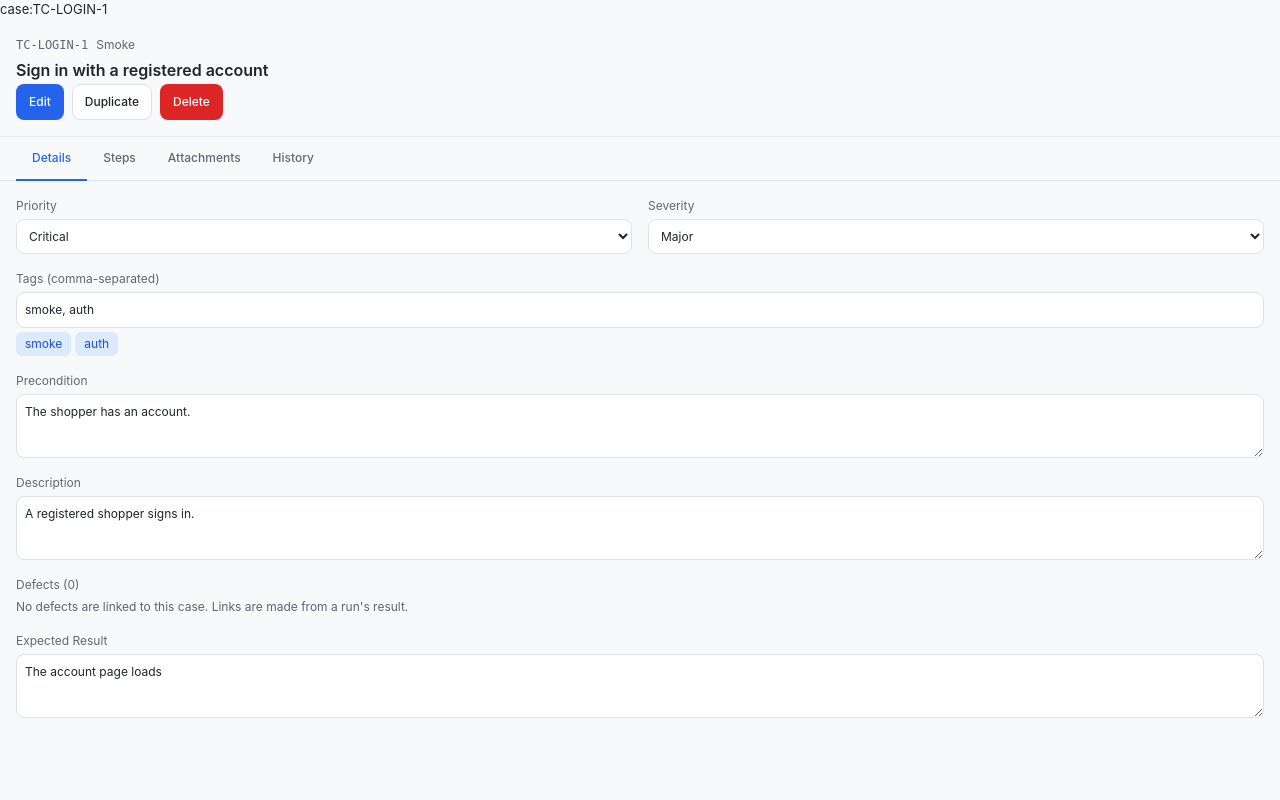
Test: CaseDetail › keeps the dialog open and shows the envelope when deletion is rejected
The width and height of the screenshot is (1280, 800).
Expected: the heading "Sign in with a registered account" is shown, [16,60,268,80]
Click the button "Delete": [191, 102] box [160,84,223,120]
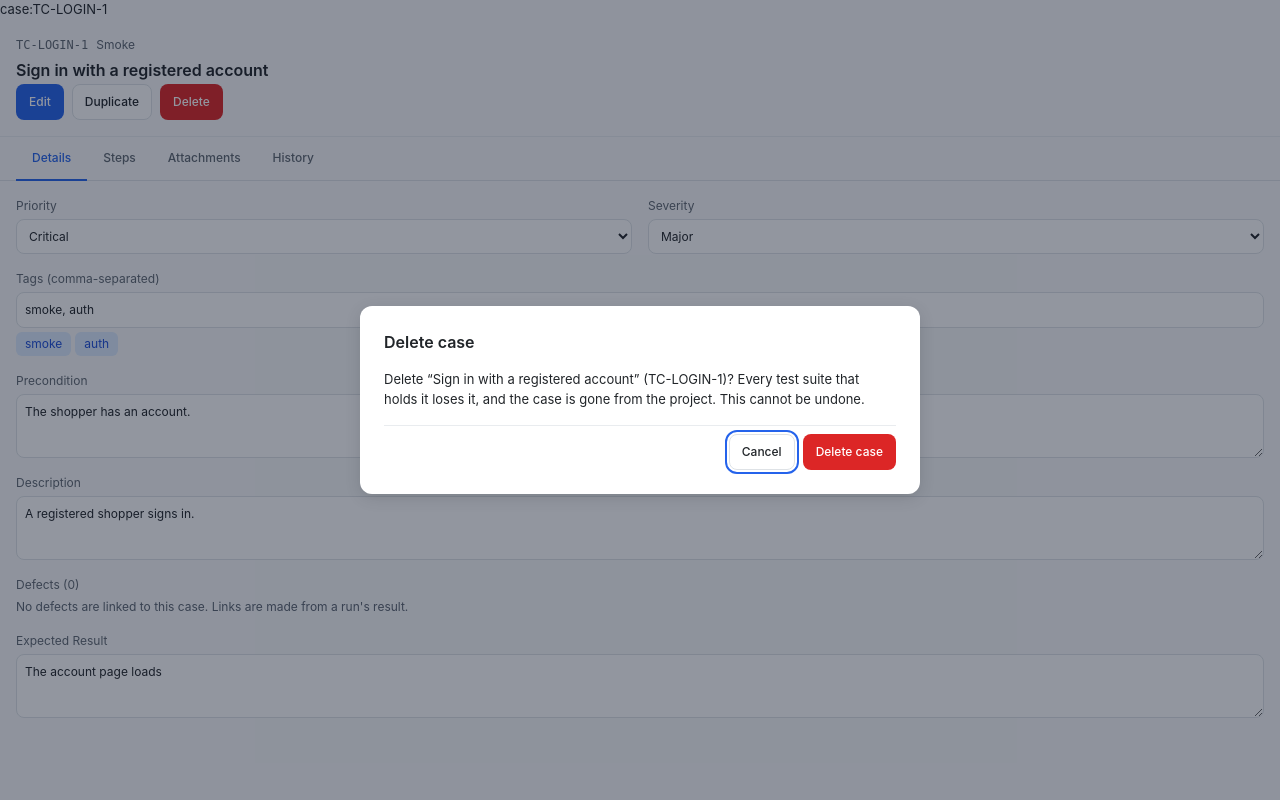
Click the button "Delete case": [849, 452] box [803,434,896,470]
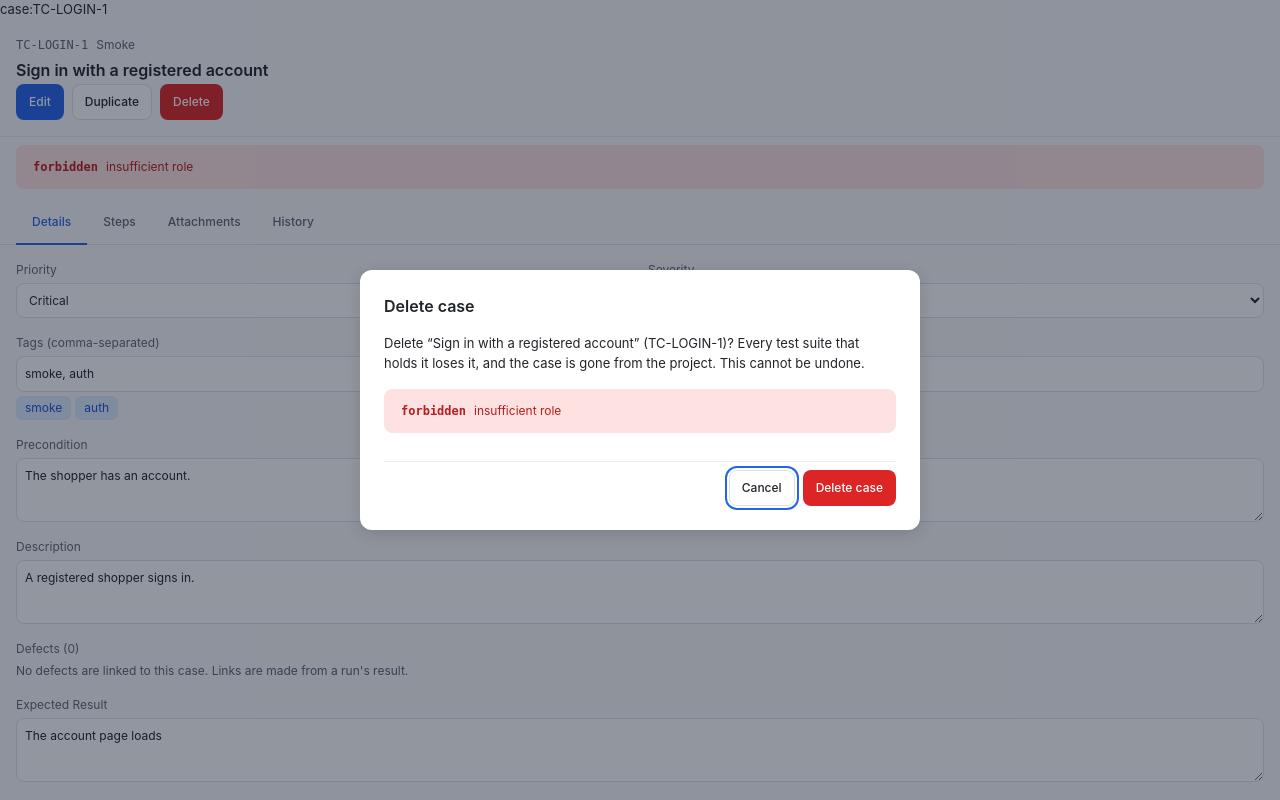
Expected: the dialog "Delete case" is shown, [360,270,920,530]
Expected: the message shows "forbidden", [401,404,466,418]
Expected: the message shows "insufficient role", [474,403,561,418]
